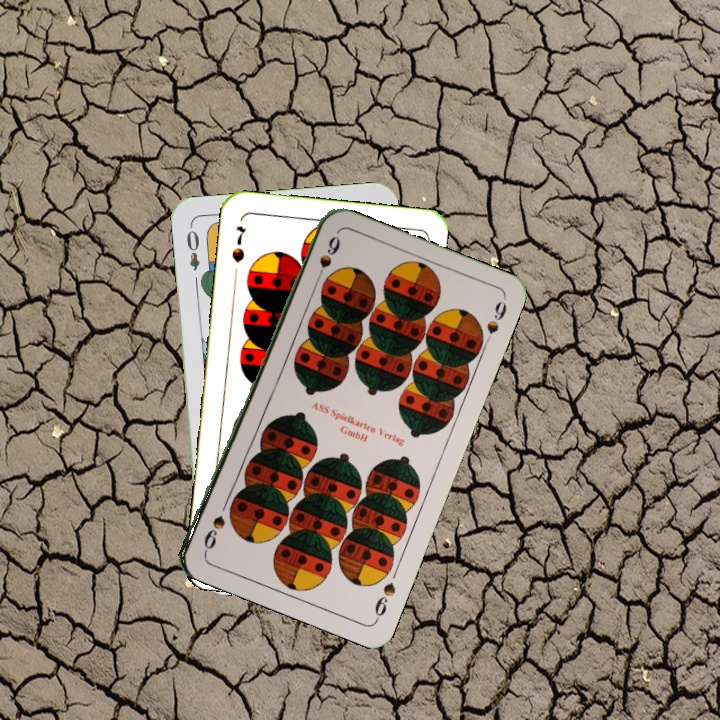EO: (182, 226, 202, 274)
S7: (228, 221, 249, 266)
S9: (311, 232, 341, 287), (370, 578, 398, 623)
